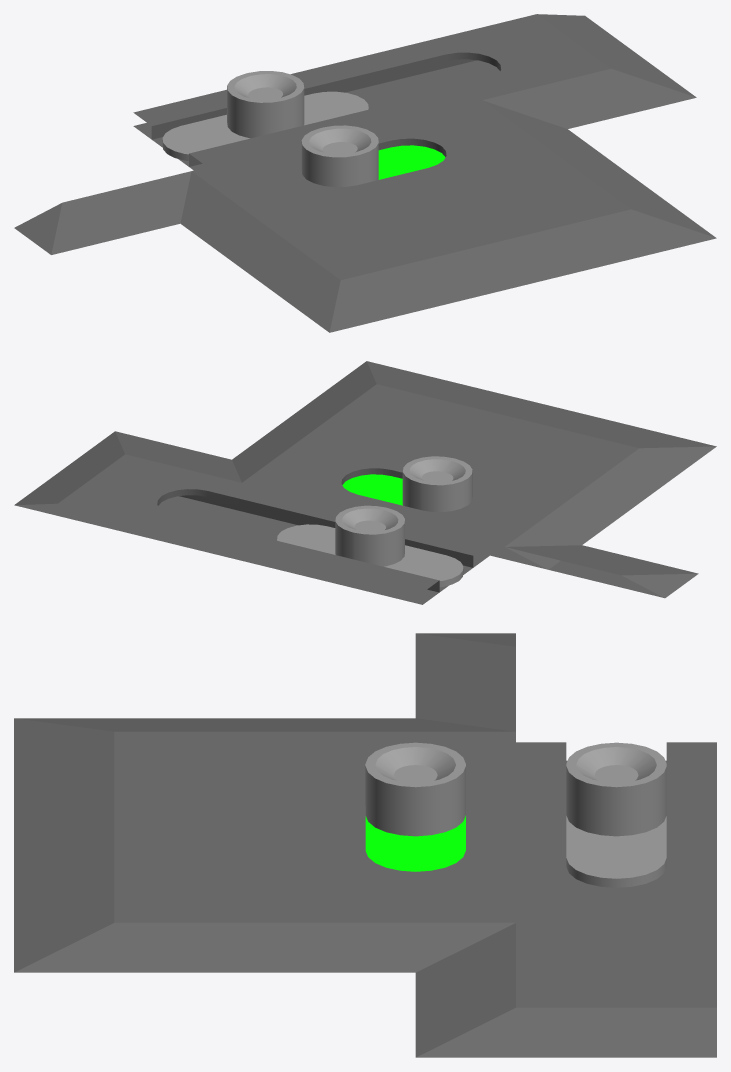
The model's file is switches.fbx.
The picture shows the model from 3 angles, top to bottom: view 1: azimuth 30°, elevation 25°; view 2: azimuth 150°, elevation 25°; view 3: azimuth 270°, elevation 25°; orthographic projection. The views are drawn at different scales.
Visible parts, largest first — view 1: Switch Housing Blank, Switch Housing, Switch Housing Ramp End, Switch Housing End Piece, Switch Housing Extender, Slider Knob, Switch Housing Ramp Left, Switch Housing Ramp Right, Switch Knob, Switch; view 2: Switch Housing Blank, Switch Housing, Switch Housing End Piece, Switch Housing Extender, Switch Housing Ramp End, Slider Knob, Switch Housing Ramp Left, Switch Knob, Switch Housing Ramp Right, Switch; view 3: Switch Housing Blank, Switch Housing, Switch Housing End Piece, Switch Housing Ramp End, Switch Housing Extender, Slider Knob, Switch Housing Ramp Right, Switch Housing Ramp Left, Switch Knob, Switch.
Boxes of the visible parts, left/top/right/bottom form: Switch Housing Blank: left=218, top=154, right=678, bottom=305; Switch Housing: left=180, top=100, right=604, bottom=250; Switch Housing Ramp End: left=292, top=209, right=716, bottom=332; Switch Housing End Piece: left=391, top=14, right=658, bottom=103; Switch Housing Extender: left=133, top=49, right=465, bottom=170; Slider Knob: left=162, top=71, right=368, bottom=160; Switch Housing Ramp Left: left=14, top=171, right=191, bottom=254; Switch Housing Ramp Right: left=482, top=68, right=696, bottom=128; Switch Knob: left=301, top=125, right=378, bottom=187; Switch: left=378, top=145, right=445, bottom=179; Switch Housing Blank: left=266, top=384, right=682, bottom=520; Switch Housing: left=232, top=433, right=615, bottom=569; Switch Housing End Piece: left=14, top=454, right=255, bottom=547; Switch Housing Extender: left=189, top=486, right=489, bottom=604; Switch Housing Ramp End: left=333, top=361, right=716, bottom=470; Slider Knob: left=277, top=505, right=463, bottom=587; Switch Housing Ramp Left: left=491, top=545, right=698, bottom=598; Switch Knob: left=402, top=456, right=472, bottom=512; Switch Housing Ramp Right: left=82, top=431, right=241, bottom=482; Switch: left=342, top=474, right=402, bottom=505; Switch Housing Blank: left=114, top=718, right=315, bottom=972; Switch Housing: left=315, top=718, right=515, bottom=972; Switch Housing End Piece: left=516, top=912, right=716, bottom=1057; Switch Housing Ramp End: left=14, top=718, right=114, bottom=972; Switch Housing Extender: left=516, top=742, right=716, bottom=930; Slider Knob: left=566, top=742, right=666, bottom=887; Switch Housing Ramp Right: left=415, top=923, right=515, bottom=1057; Switch Housing Ramp Left: left=415, top=633, right=515, bottom=731; Switch Knob: left=365, top=742, right=465, bottom=836; Switch: left=365, top=815, right=465, bottom=871.
Size of the model in its own units: 1000 by 64.02 by 700.
